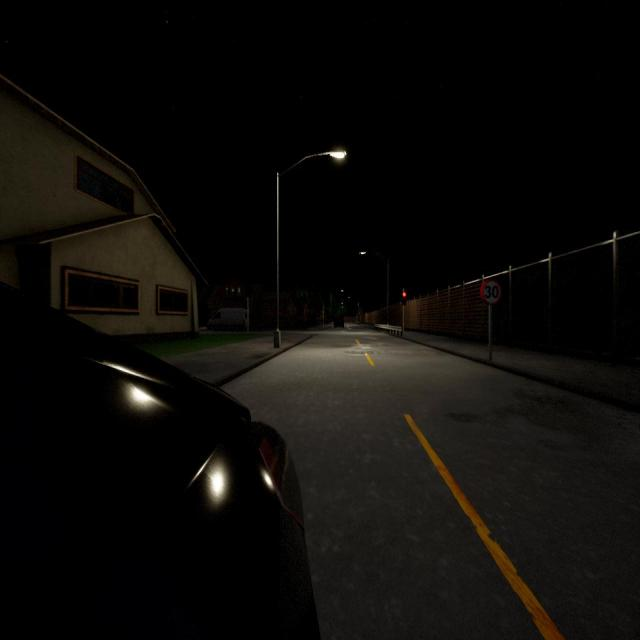Traffic_Signs: (480, 279, 502, 305)
Vehicle: (0, 290, 319, 637), (333, 317, 345, 329)
traffic_light: (401, 290, 407, 306)
